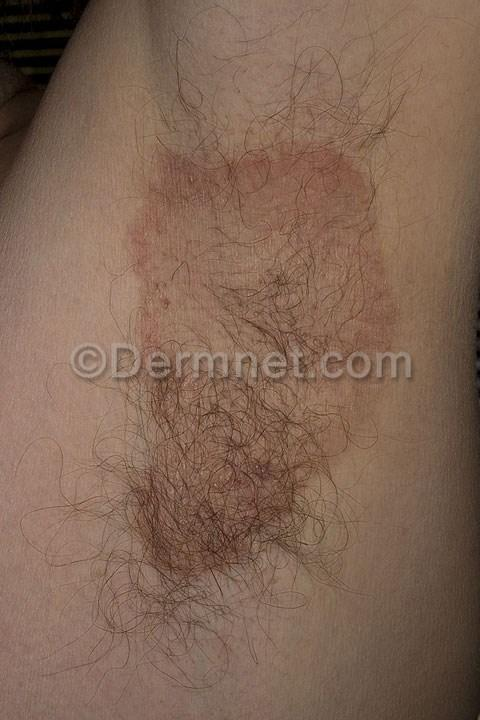Eczema: (139, 129, 425, 356), (129, 370, 389, 590)
